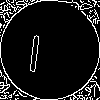I: (25, 25, 45, 72)
